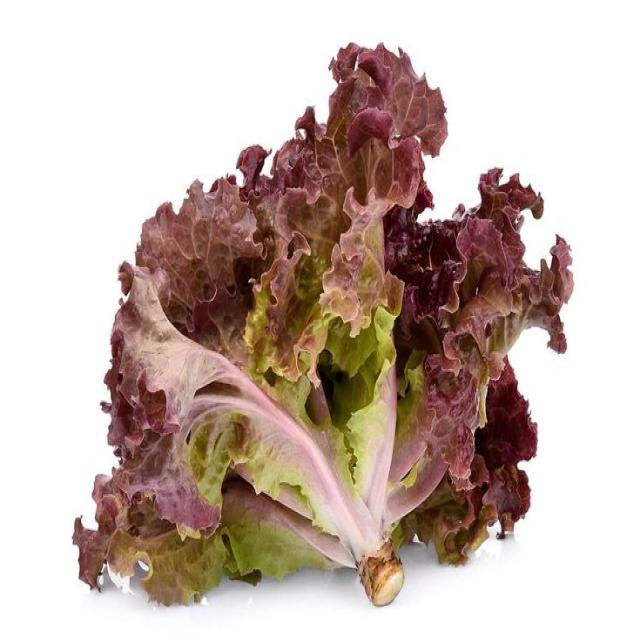lettuce: (75, 45, 572, 604)
